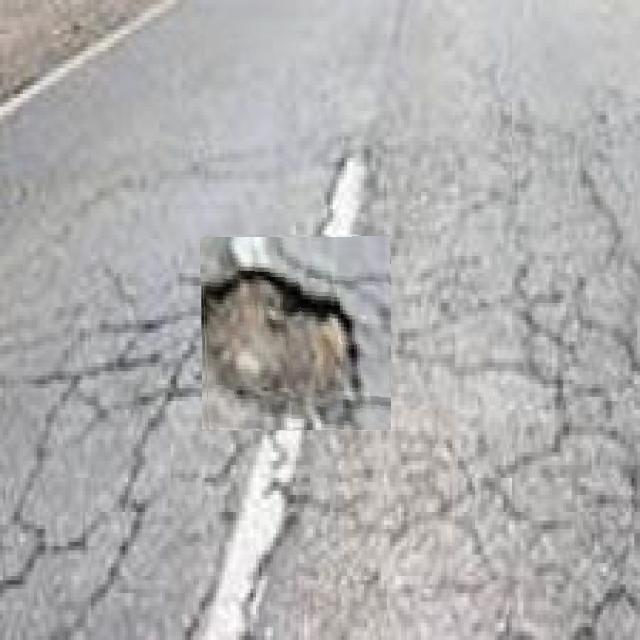Pothole: (201, 237, 391, 430)
